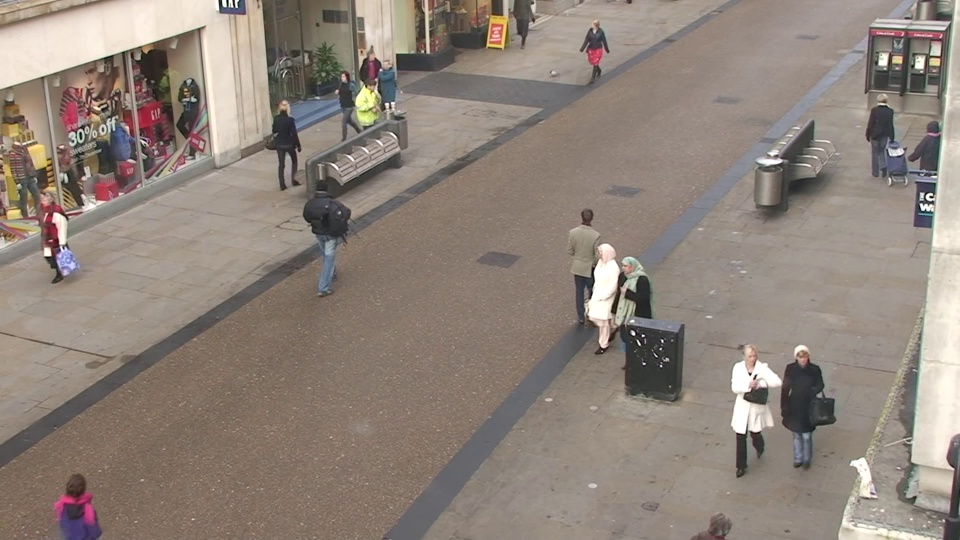pedestrian: (771, 335, 827, 489), (719, 336, 774, 489), (45, 457, 123, 540), (27, 185, 81, 297), (608, 250, 651, 382), (584, 238, 625, 367), (570, 203, 607, 323), (304, 173, 344, 283), (860, 91, 900, 182), (685, 492, 750, 540), (270, 96, 304, 185), (358, 74, 388, 158), (334, 67, 364, 148), (377, 56, 406, 134), (359, 47, 387, 123), (584, 17, 607, 85)
